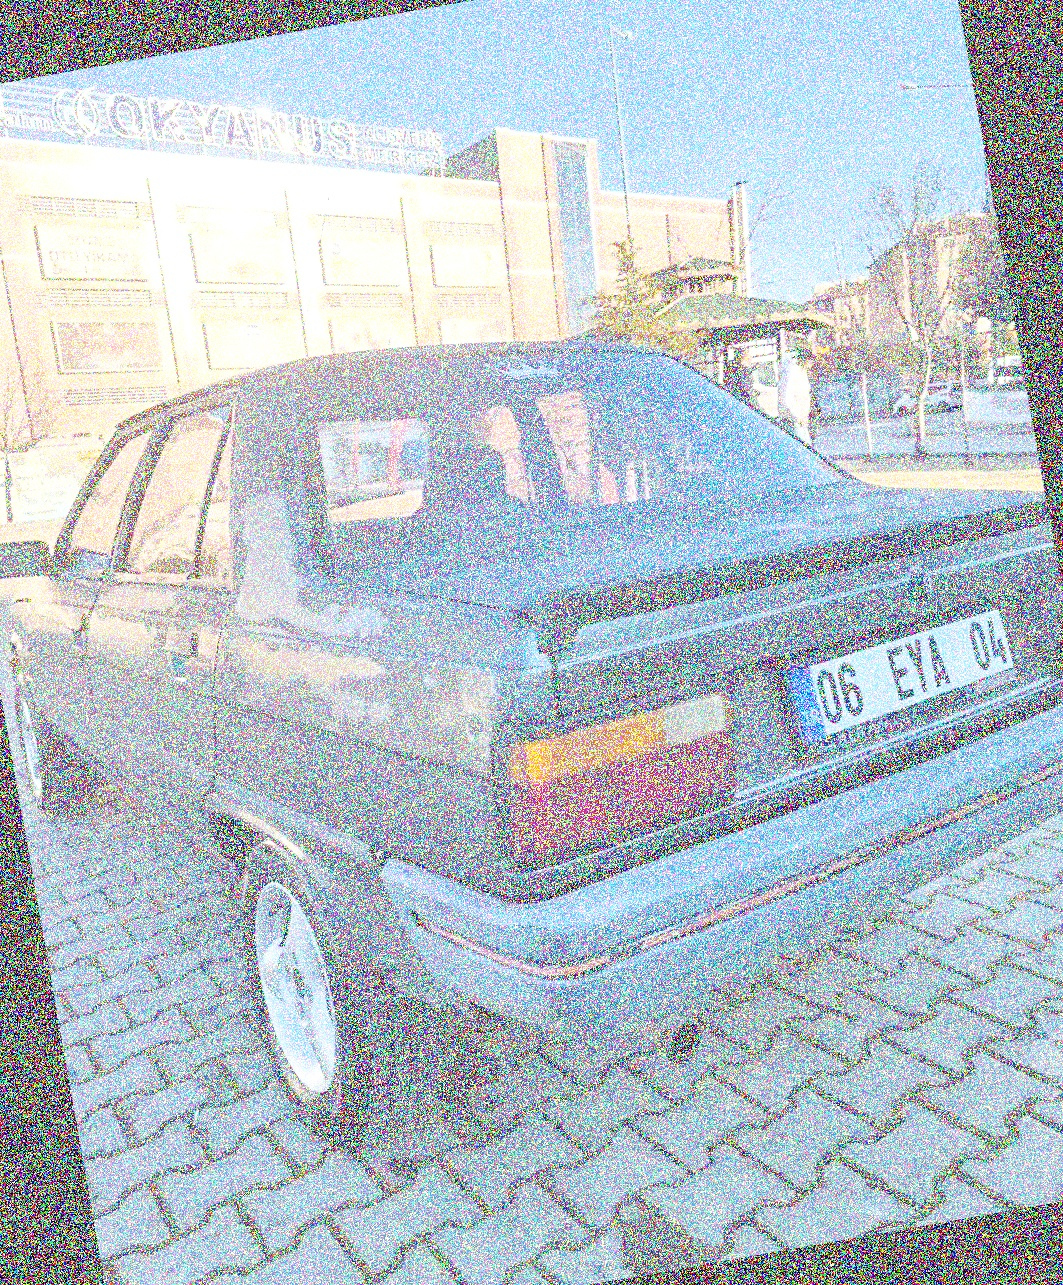plaka: (816, 604, 1027, 742)
